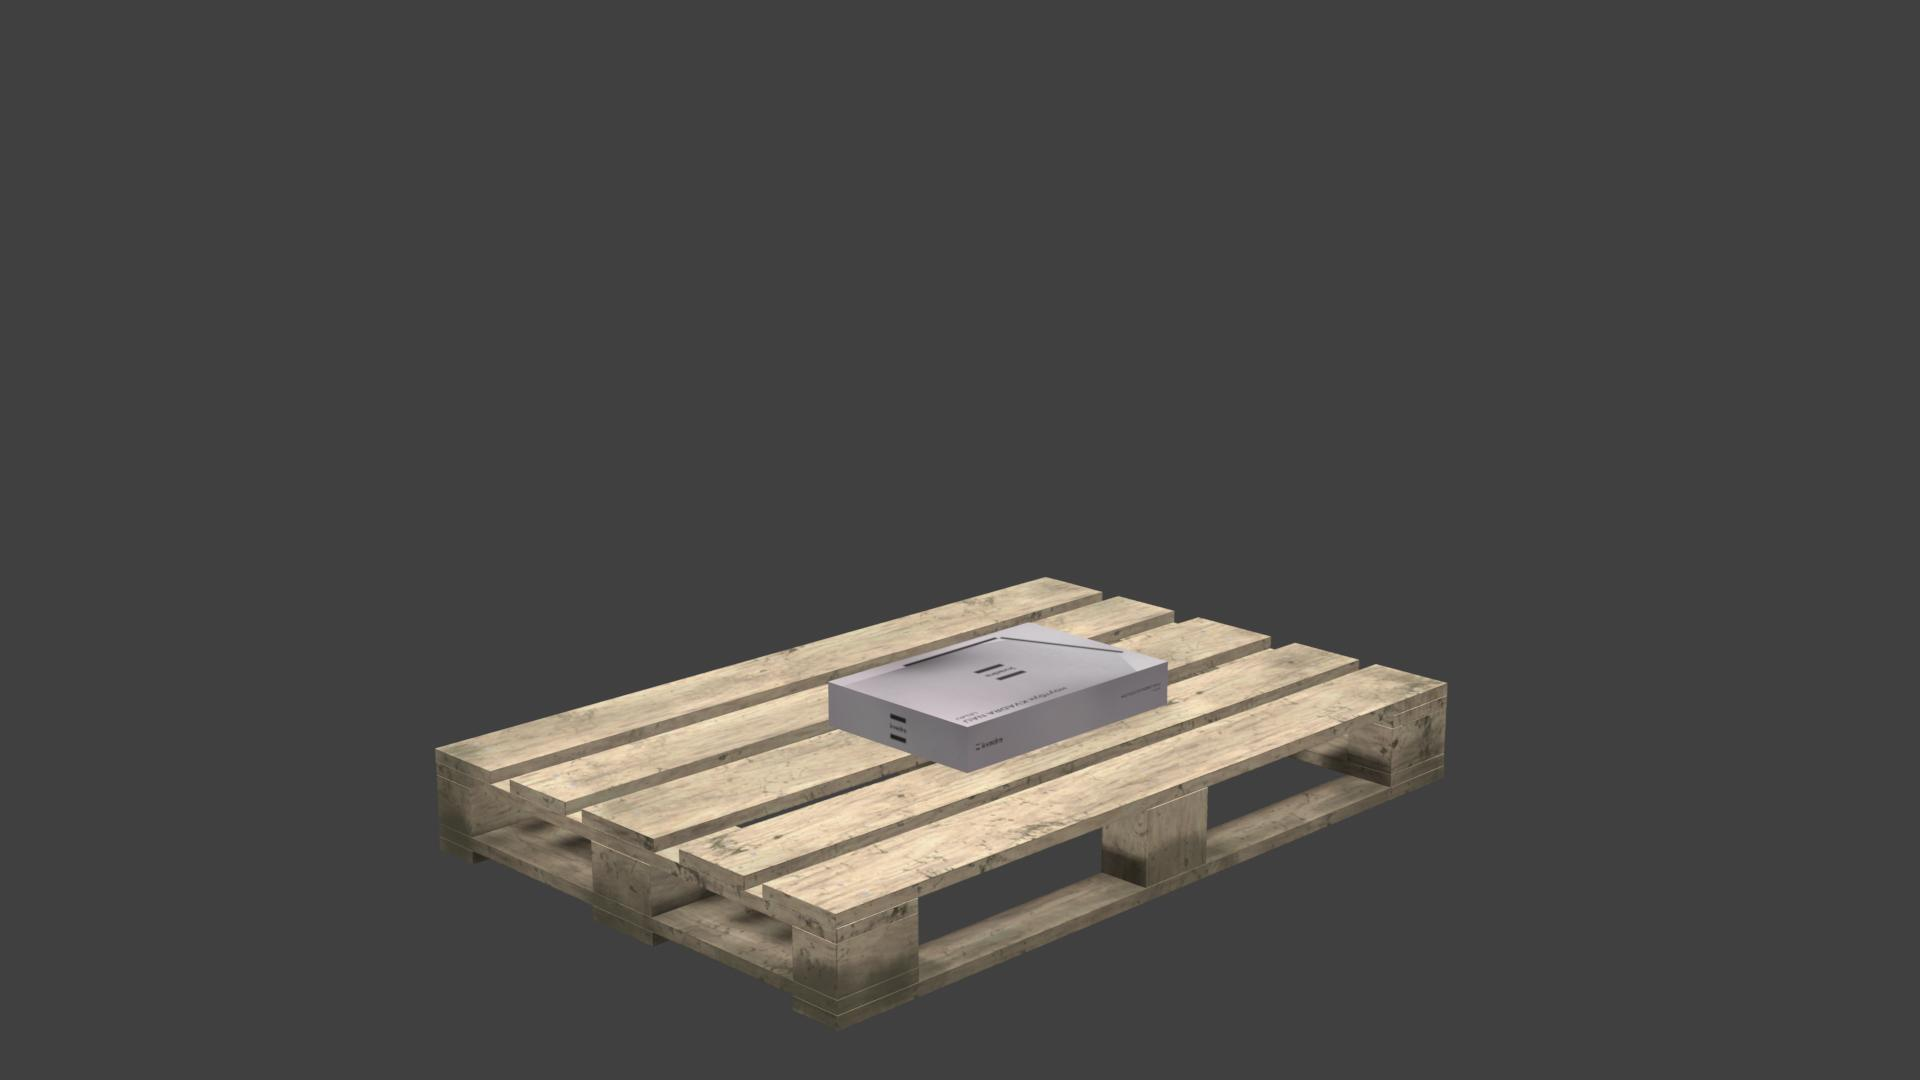laptop_left: (829, 662, 1168, 771)
laptop_top: (831, 624, 1167, 728)
palet: (436, 578, 1447, 1030)
